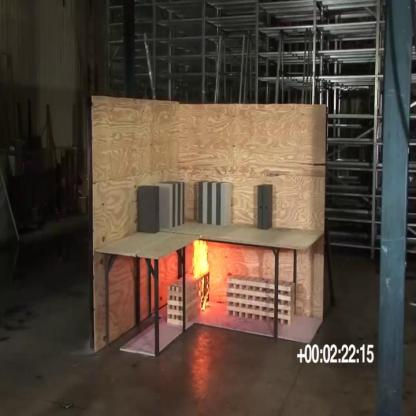fire: (191, 236, 211, 318)
